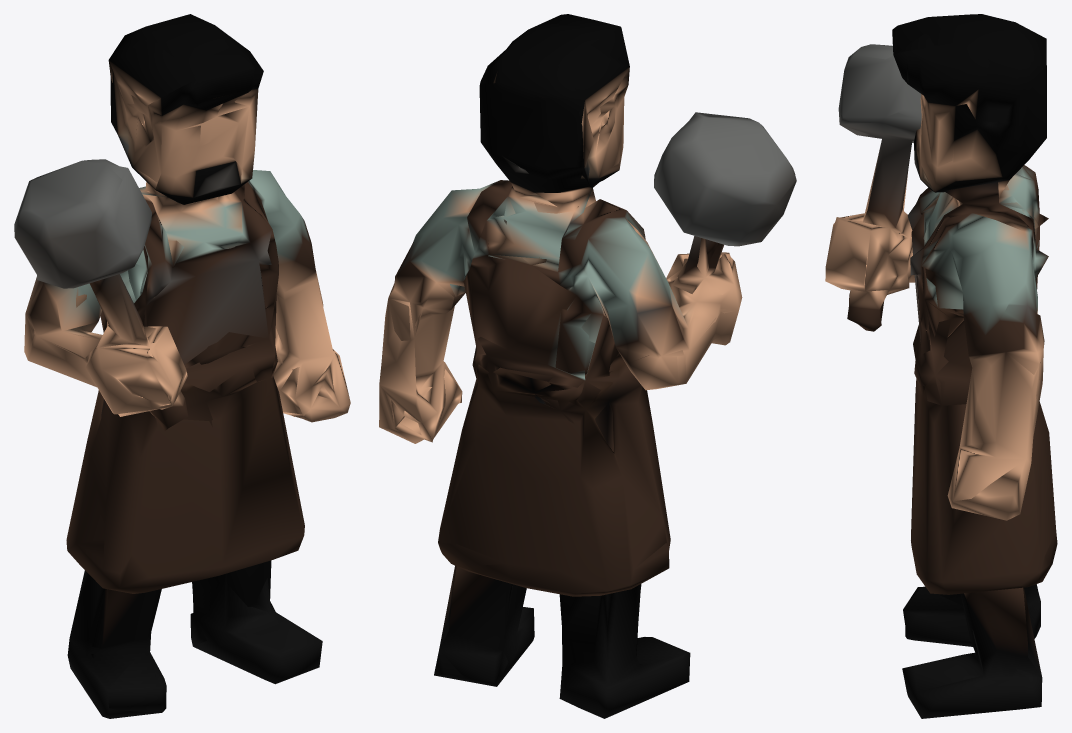
File: gen3d-blacksmith-lod0.glb
3 renders of one model, left to right at view 1: azimuth 30°, elevation 25°; view 2: azimuth 150°, elevation 25°; view 3: azimuth 270°, elevation 25°, orthographic.
Visible parts, largest first — view 1: part_0; view 2: part_0; view 3: part_0.
Boxes of the visible parts, box(x1,y1,x2,y2) form: part_0: box(14, 14, 350, 718); part_0: box(379, 14, 796, 718); part_0: box(825, 14, 1057, 718).
Bounding box in the file's own units: 0.5733 × 0.9992 × 0.3275.
